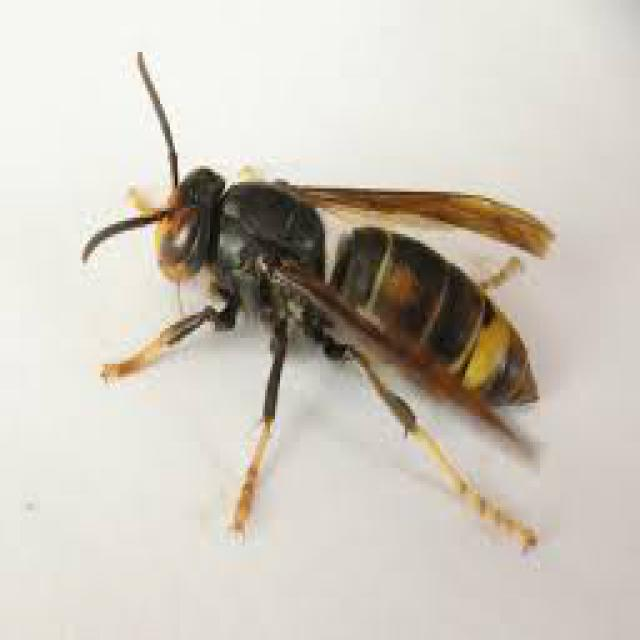Vespa Velutina: (62, 43, 569, 561)
